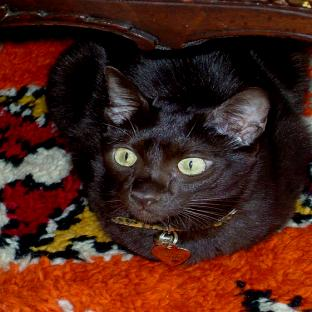Animal: (47, 34, 312, 263)
